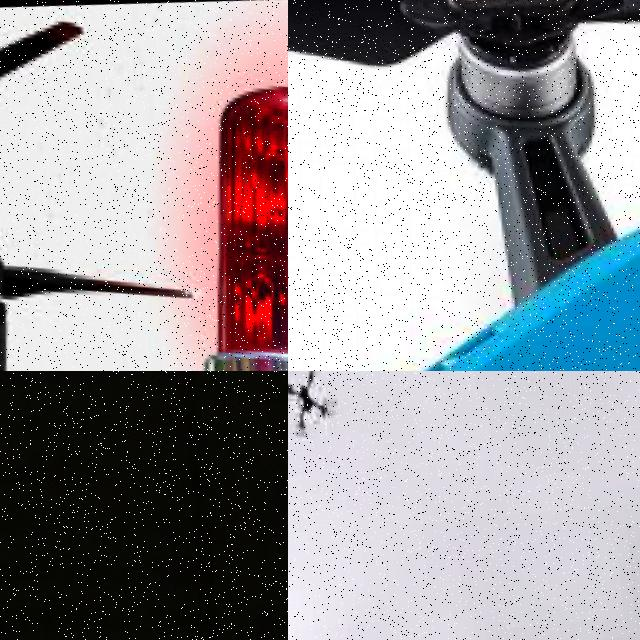drone: (288, 0, 640, 371), (0, 0, 288, 371), (288, 371, 329, 442)
